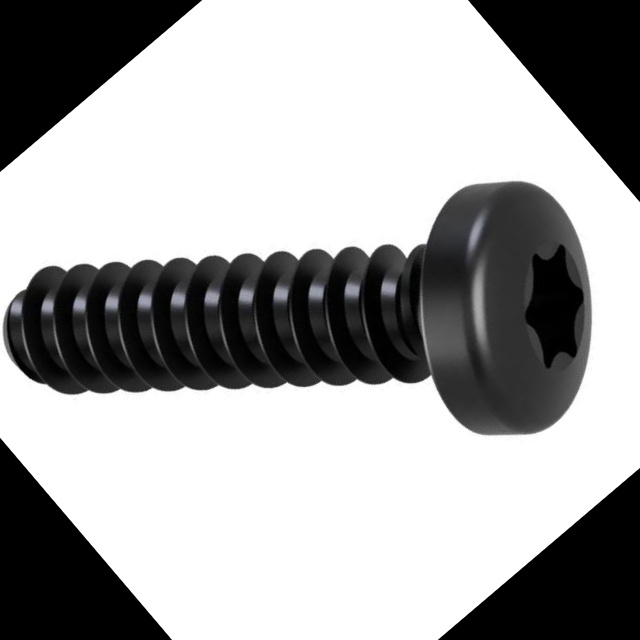torx: (344, 143, 640, 472)
